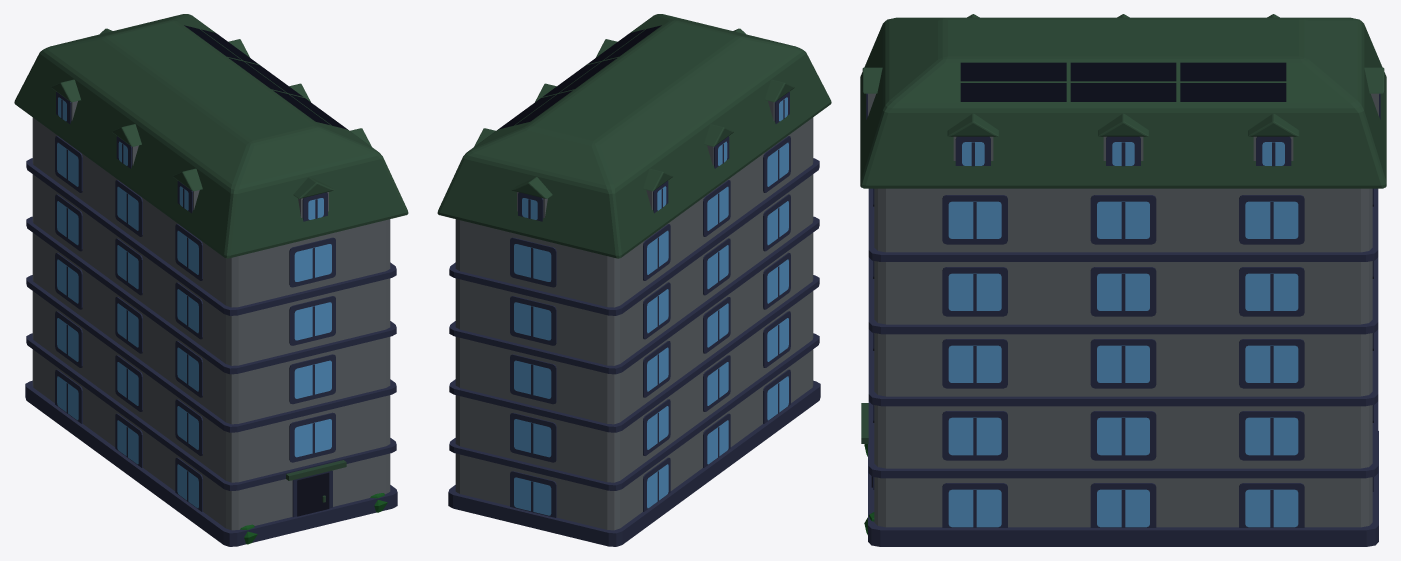
File: house-1x2-5f-mansard-d-solar.glb
3 views of the same model, side by side, from view 1: azimuth 30°, elevation 25°; view 2: azimuth 150°, elevation 25°; view 3: azimuth 270°, elevation 25° (orthographic). The views are drawn at different scales.
Parts seen in each view (by area): view 1: house-1x2-5f-mansard-d-solar; view 2: house-1x2-5f-mansard-d-solar; view 3: house-1x2-5f-mansard-d-solar.
Boxes of the visible parts, x1,y1,x2,y2 form: house-1x2-5f-mansard-d-solar: (14,14,408,546); house-1x2-5f-mansard-d-solar: (437,14,831,546); house-1x2-5f-mansard-d-solar: (860,14,1386,546).
Bounding box in the file's own units: 0.9876 × 1.9 × 1.99.
1 material, 1 textured.
